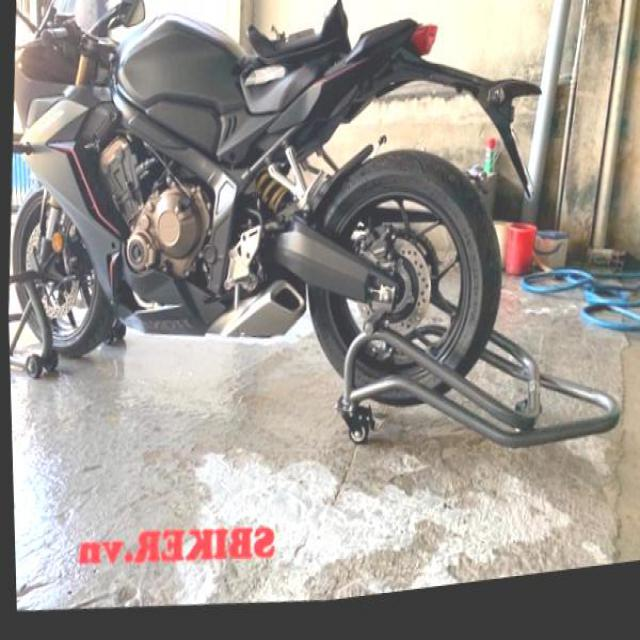CBR650R: (0, 0, 521, 472)
